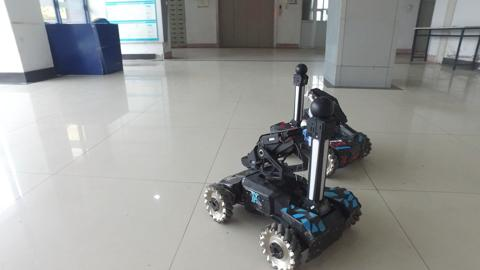chariot: (199, 98, 363, 270), (262, 57, 374, 179)
